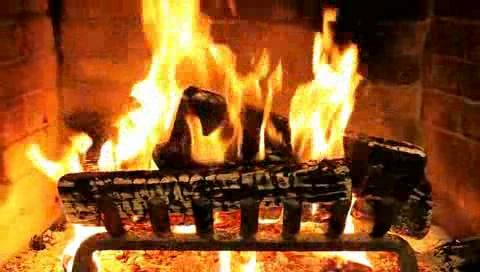fire: (15, 1, 480, 193)
